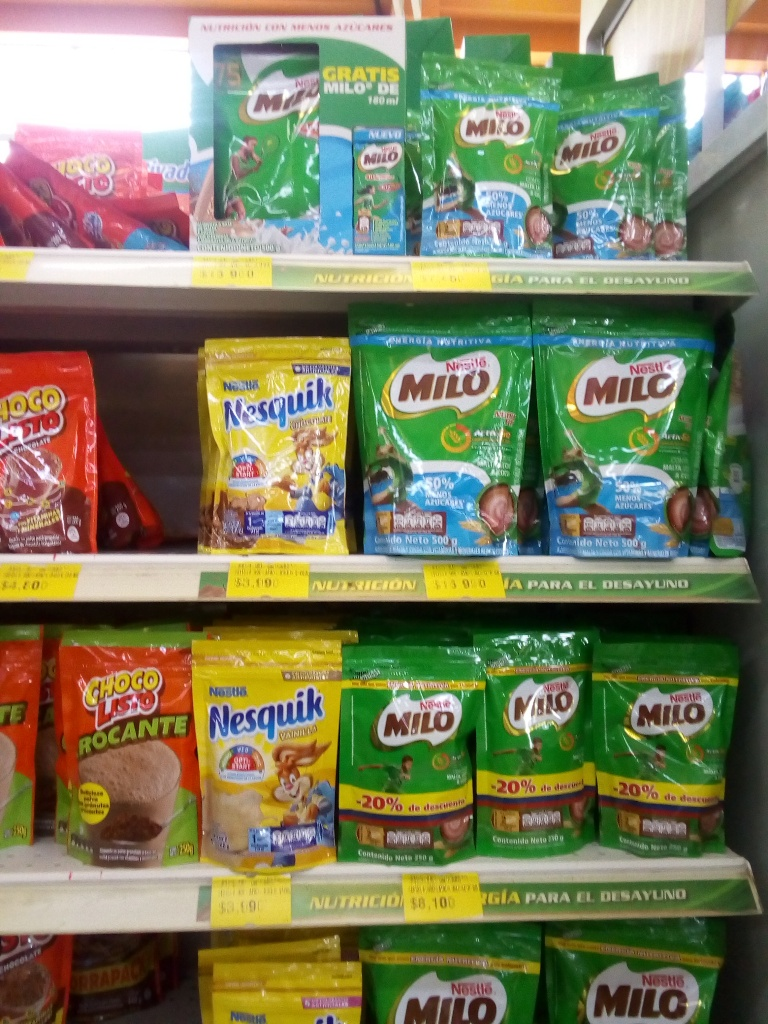COL0170102DYP25000: (45, 626, 198, 872)
COL0170103DYP20000: (2, 352, 149, 553)
COL0170203DYP25000: (342, 634, 482, 871)
COL0170205DYP20000: (423, 51, 558, 251)
COL0170205DYP50000: (346, 301, 528, 564)
COL0170303DYP20000: (188, 330, 345, 561)
COL0170306DYP20000: (186, 626, 355, 870)
